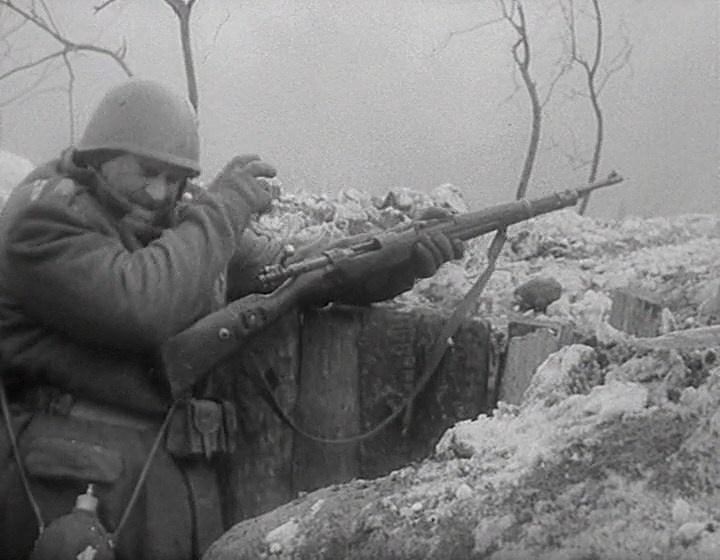gun: (157, 151, 648, 462)
